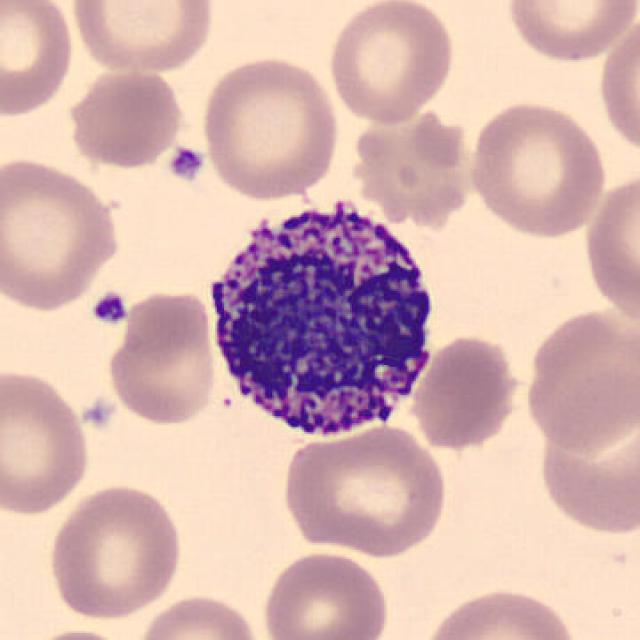Basophil: (198, 183, 447, 453)
Platelets: (166, 144, 207, 183), (89, 289, 130, 328), (80, 397, 116, 430)
RBC: (278, 420, 452, 559), (197, 53, 343, 203), (464, 97, 608, 240), (0, 153, 126, 314), (45, 480, 186, 620), (519, 303, 638, 455), (324, 0, 458, 127), (102, 286, 220, 430), (354, 106, 473, 233), (407, 330, 525, 453), (0, 364, 92, 518), (540, 399, 640, 540), (64, 65, 185, 171), (258, 548, 393, 640), (65, 0, 218, 78), (580, 168, 638, 333), (417, 583, 583, 640), (0, 0, 78, 120), (502, 0, 636, 65), (131, 590, 264, 640), (594, 11, 638, 160), (16, 626, 139, 640)
